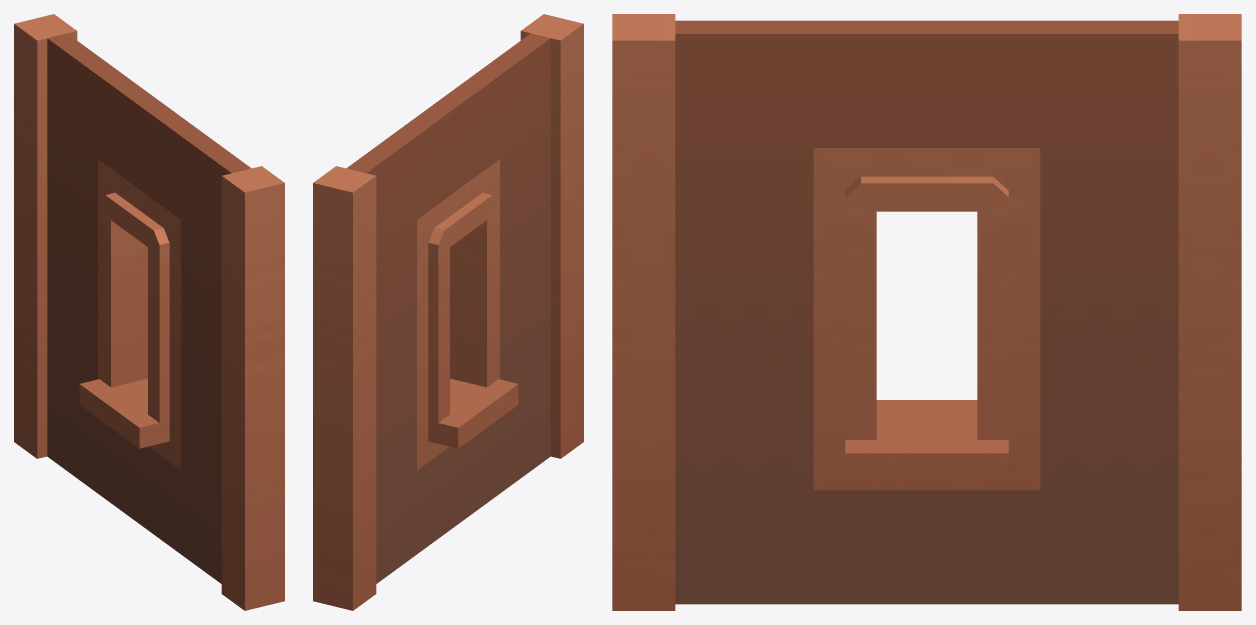
The model's file is wallWoodWindowSmall.fbx.
3 views of the same model, side by side, from view 1: azimuth 30°, elevation 25°; view 2: azimuth 150°, elevation 25°; view 3: azimuth 270°, elevation 25° (orthographic). The views are drawn at different scales.
Parts seen in each view (by area): view 1: wallWoodWindowSmall; view 2: wallWoodWindowSmall; view 3: wallWoodWindowSmall.
Boxes of the visible parts, left/top/right/bottom form: wallWoodWindowSmall: left=14, top=14, right=284, bottom=610; wallWoodWindowSmall: left=313, top=14, right=583, bottom=610; wallWoodWindowSmall: left=612, top=14, right=1241, bottom=610.
Size of the model in its own units: 0.2 by 1 by 1.
